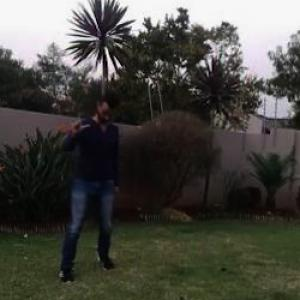land_hand: (66, 108, 91, 138)
